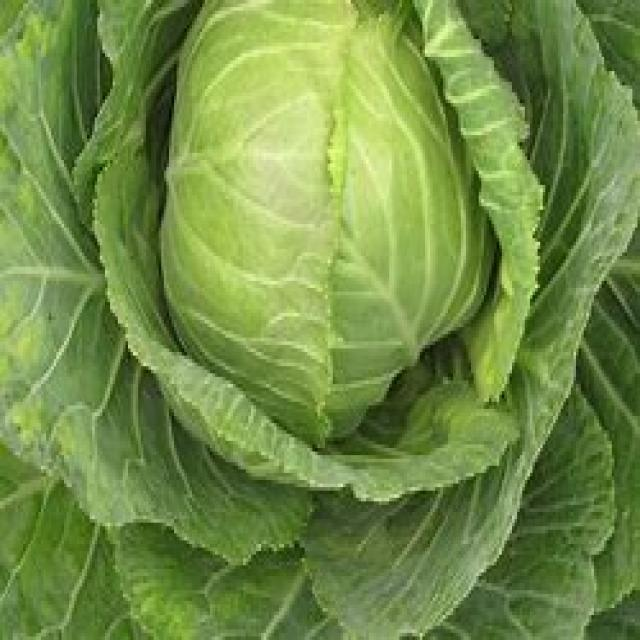cabbage: (162, 0, 486, 437)
